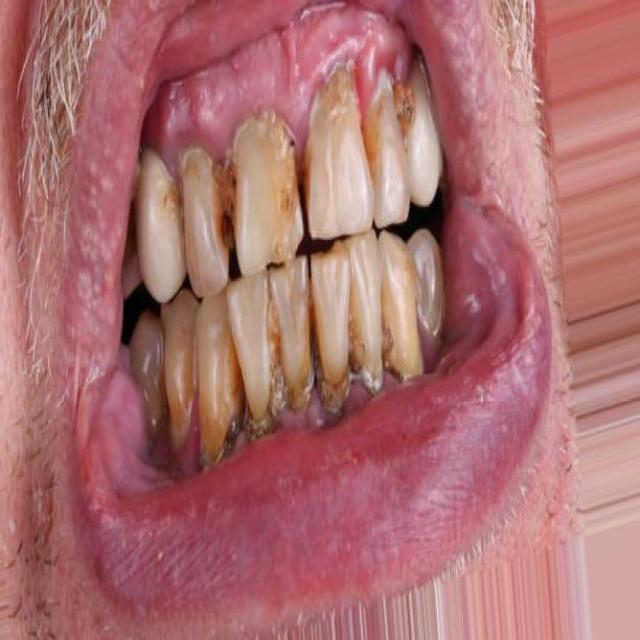caries: (206, 176, 251, 259)
